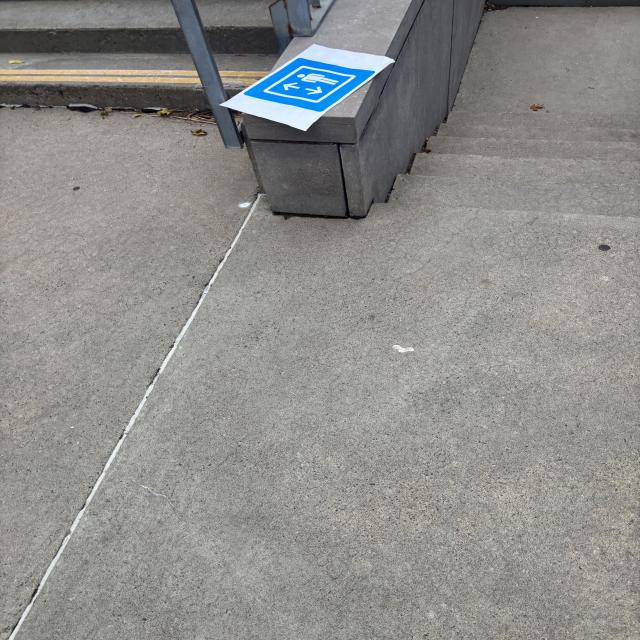elevator: (242, 58, 377, 113)
